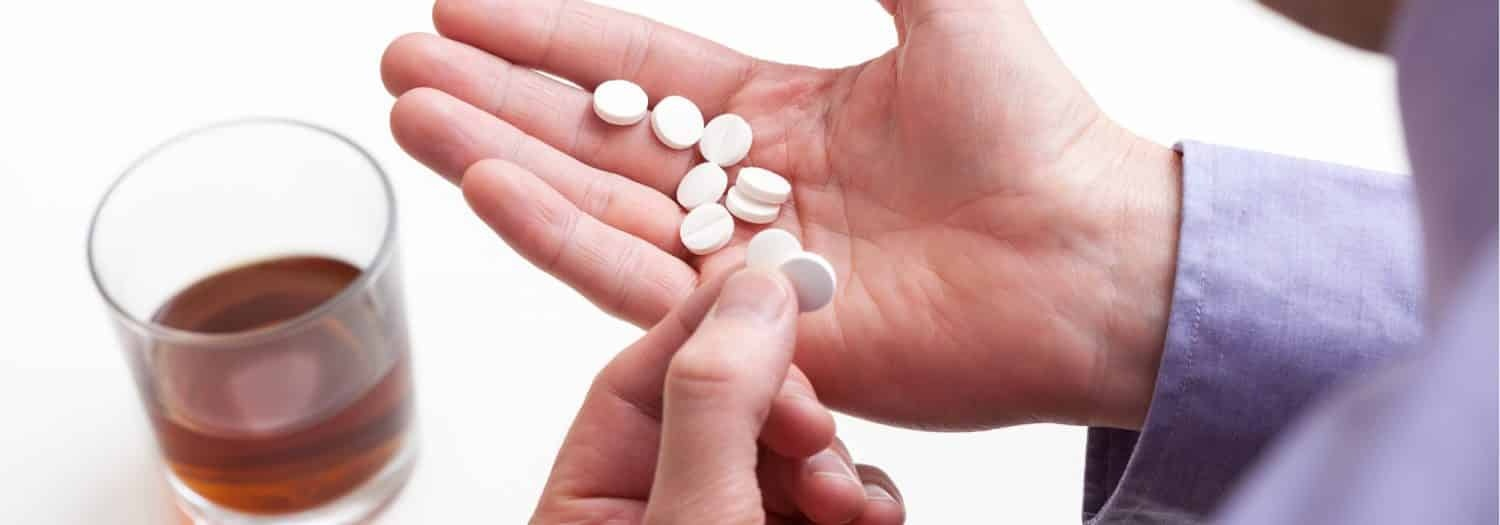pills: (785, 234, 841, 328), (675, 202, 734, 263), (734, 152, 793, 213), (697, 102, 756, 163), (595, 71, 649, 133), (654, 97, 705, 162)
